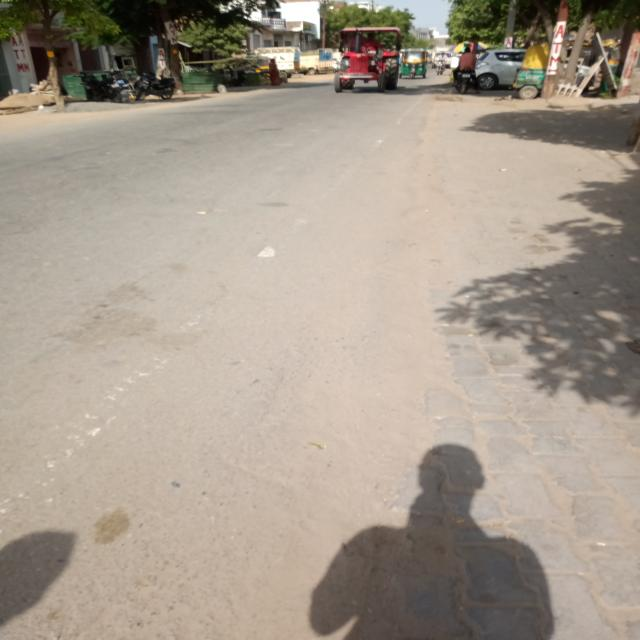Autorickshaw: (521, 42, 620, 102), (207, 57, 266, 82), (399, 46, 431, 82)
Bike: (134, 70, 183, 94), (453, 66, 474, 94), (434, 53, 447, 76)
Car: (474, 50, 524, 94)
tempo: (255, 44, 302, 76), (300, 47, 334, 72)
tractor: (327, 23, 405, 93)
